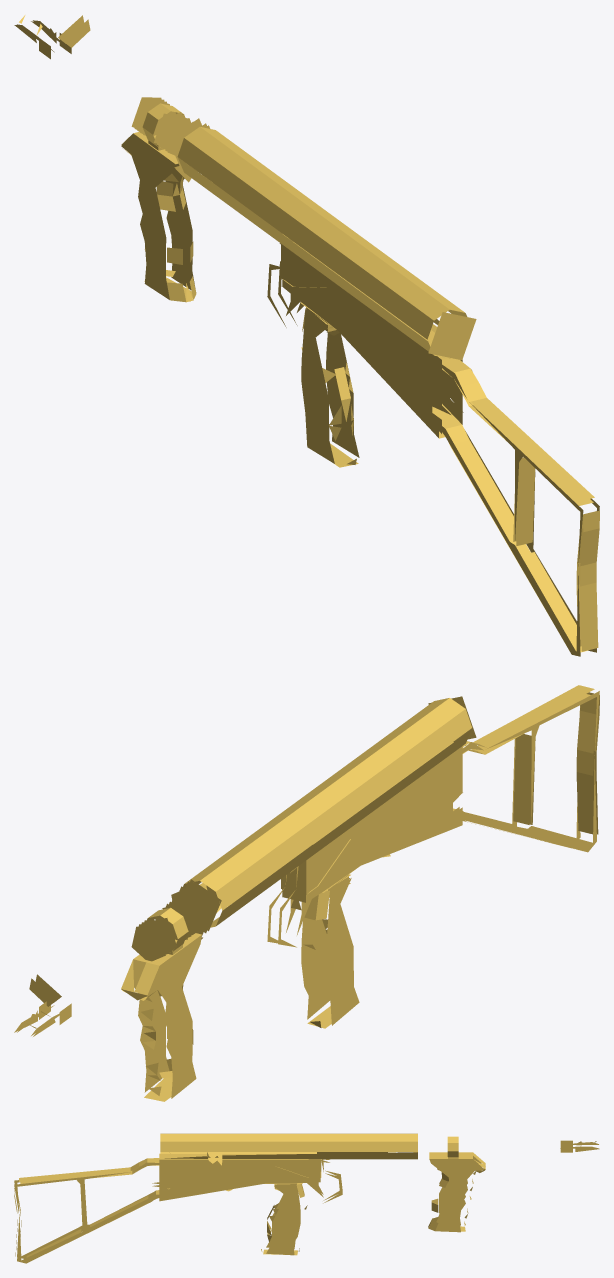
Rendered from charm_mst_subfusil_6.glb.
The picture shows the model from 3 angles, top to bottom: view 1: azimuth 30°, elevation 25°; view 2: azimuth 150°, elevation 25°; view 3: azimuth 270°, elevation 25°; orthographic projection. The views are drawn at different scales.
Parts seen in each view (by area): view 1: p0_accent; view 2: p0_accent; view 3: p0_accent.
Boxes of the visible parts, x1=… form: p0_accent: x1=14, y1=15, x2=599, y2=656; p0_accent: x1=14, y1=685, x2=599, y2=1101; p0_accent: x1=14, y1=1133, x2=599, y2=1263.
Size of the model in its own units: 0.0523 by 0.1971 by 0.813.
